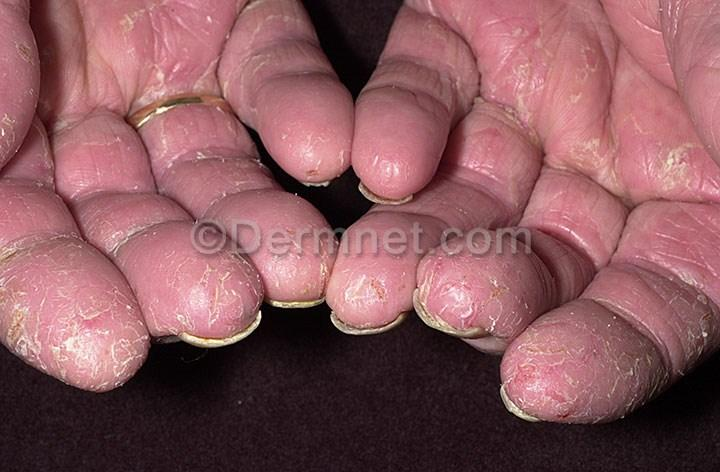Eczema: (95, 0, 239, 92), (467, 12, 609, 101), (147, 225, 255, 338), (12, 260, 118, 375), (52, 111, 151, 231), (508, 318, 623, 414), (631, 236, 718, 362), (363, 48, 442, 167), (156, 89, 252, 185), (238, 0, 338, 89), (425, 226, 526, 312), (451, 115, 529, 221), (570, 107, 650, 199), (650, 122, 720, 213), (332, 241, 399, 309), (0, 45, 43, 146), (268, 234, 326, 289)
